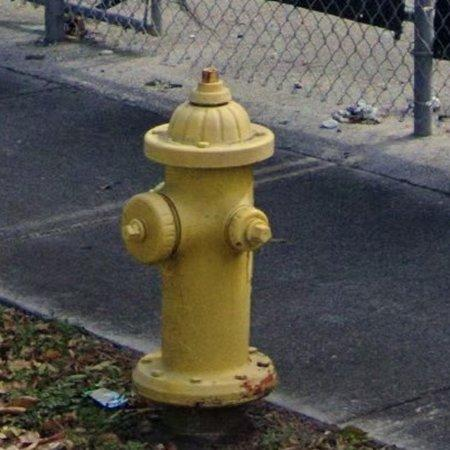a fire hydrant: (121, 67, 277, 408)
